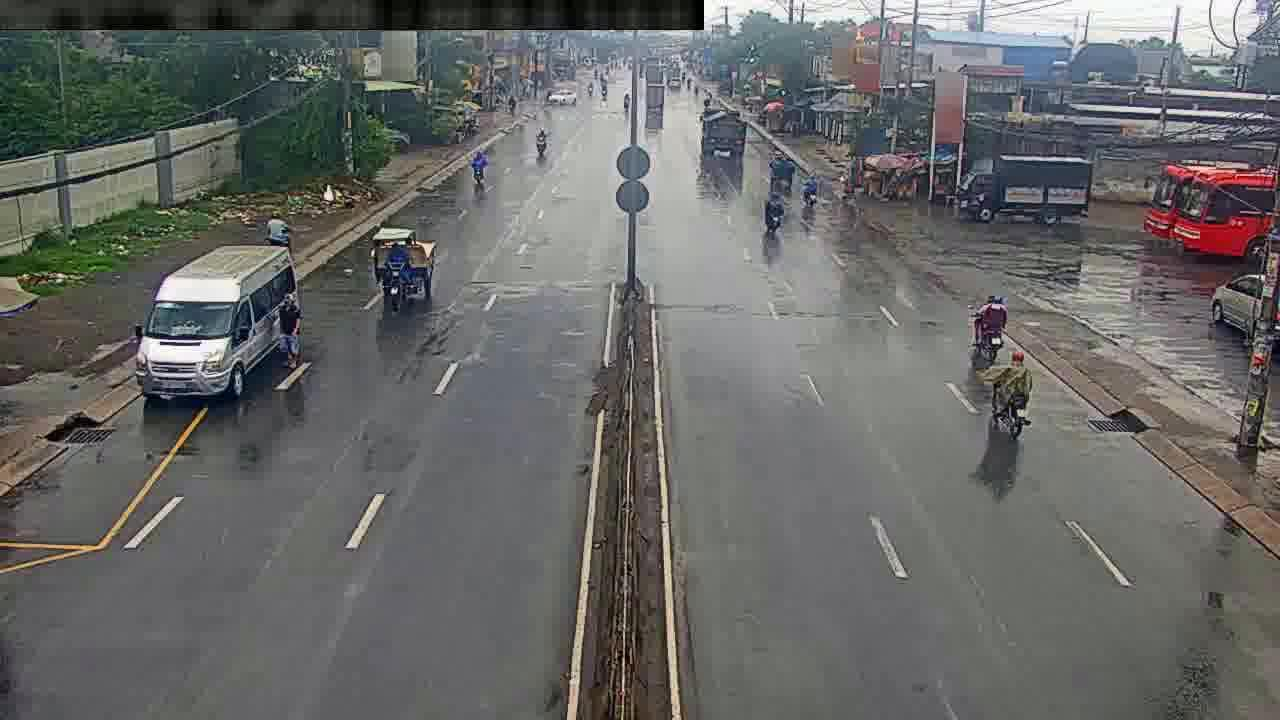14: (135, 243, 295, 403)
8: (705, 109, 743, 158)
motorbike: (993, 350, 1029, 439), (976, 284, 1008, 361), (1235, 378, 1267, 448), (762, 186, 783, 236), (471, 142, 492, 188), (265, 211, 291, 245), (796, 171, 812, 213), (536, 127, 548, 160)
